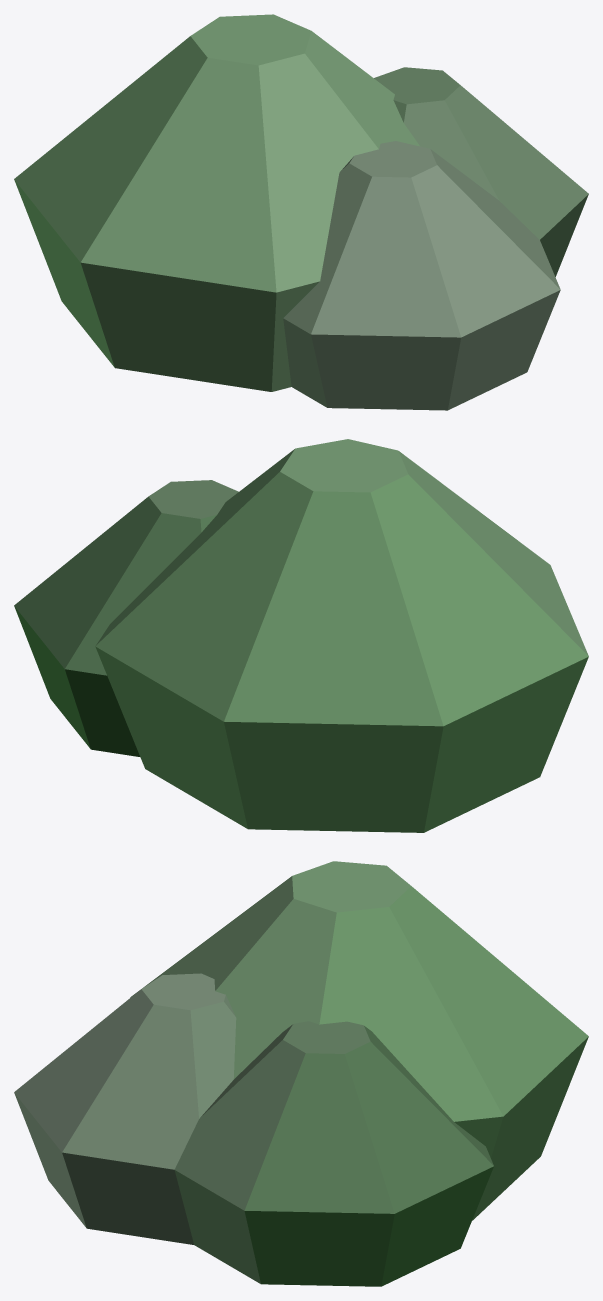
The model's file is bush_round.glb.
The picture shows the model from 3 angles, top to bottom: view 1: azimuth 30°, elevation 25°; view 2: azimuth 150°, elevation 25°; view 3: azimuth 270°, elevation 25°; orthographic projection. The views are drawn at different scales.
Visible parts, largest first — view 1: bush_round; view 2: bush_round; view 3: bush_round.
Part boxes in pixels (left/top/right/bottom): bush_round: left=14, top=14, right=588, bottom=410; bush_round: left=14, top=439, right=588, bottom=832; bush_round: left=14, top=861, right=588, bottom=1286.
Bounding box in the file's own units: 1.79 × 0.945 × 1.81.
